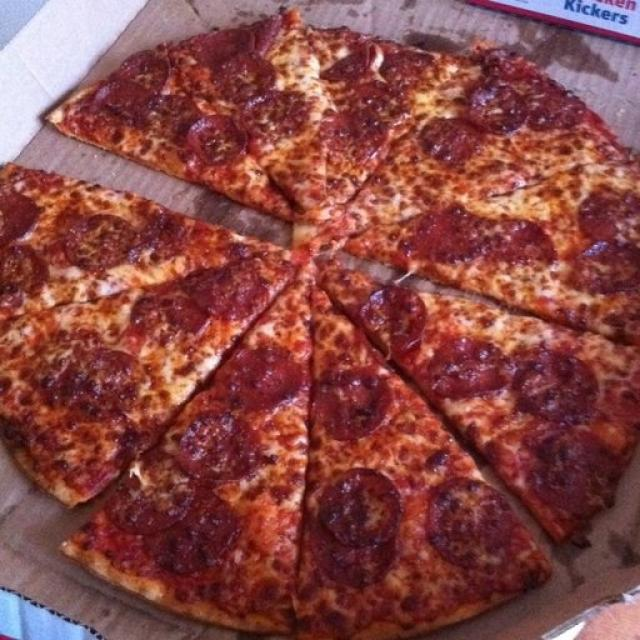pepperoni: (145, 484, 237, 565), (412, 214, 552, 262), (322, 467, 400, 550), (421, 485, 508, 558), (530, 424, 612, 500), (219, 338, 298, 416), (48, 349, 137, 416), (102, 463, 192, 528), (309, 518, 388, 585), (180, 418, 260, 484), (428, 340, 515, 400), (315, 368, 387, 439), (518, 353, 596, 417), (353, 292, 427, 350), (133, 297, 210, 348), (313, 103, 384, 158), (194, 260, 268, 312), (264, 158, 331, 210), (189, 115, 253, 168), (68, 216, 134, 266), (573, 238, 639, 286), (210, 54, 278, 99), (0, 243, 46, 309), (188, 111, 245, 164), (128, 211, 188, 261), (578, 193, 640, 240), (524, 82, 582, 131), (475, 85, 527, 137), (418, 116, 476, 162), (196, 20, 284, 50), (252, 86, 307, 134), (74, 104, 126, 142), (0, 185, 34, 243), (382, 50, 433, 88), (100, 82, 160, 114), (318, 46, 373, 79), (121, 52, 177, 84), (480, 53, 532, 85)
pizza: (0, 10, 640, 640)
